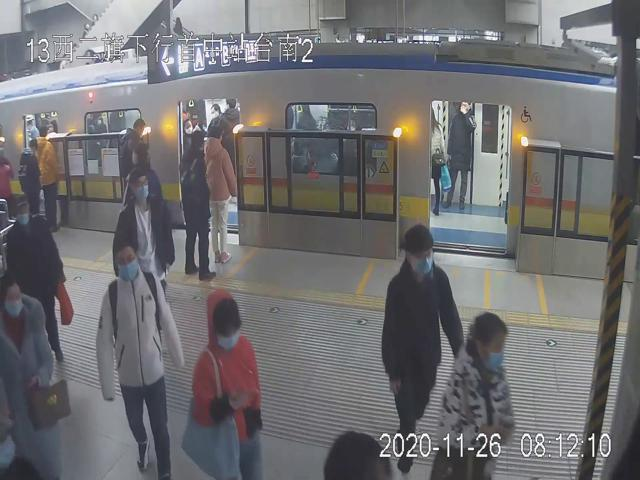person: (97, 239, 186, 480), (381, 223, 465, 472), (6, 197, 69, 360), (112, 172, 174, 283), (177, 129, 217, 280), (203, 123, 237, 265), (35, 124, 67, 232)
